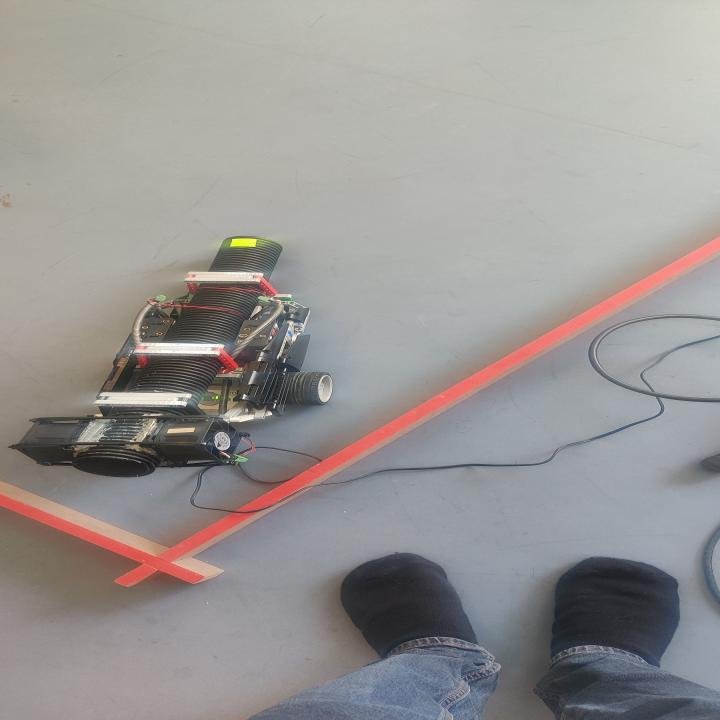robot: (19, 236, 334, 478)
robot-front: (210, 236, 282, 278)
